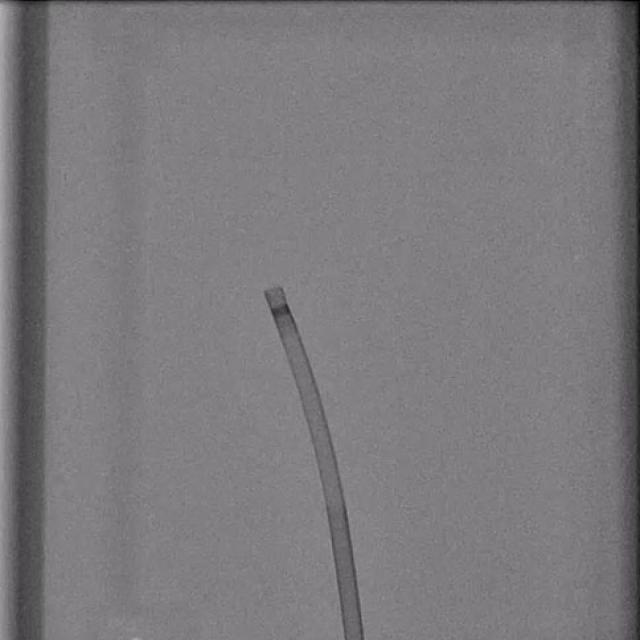bend: (324, 496, 346, 506)
entry: (344, 635, 363, 639)
marker: (270, 303, 292, 318)
tip: (264, 288, 286, 299)
